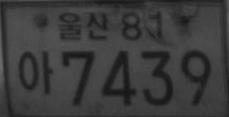1: (146, 10, 168, 39)
3: (140, 49, 174, 106)
4: (99, 49, 137, 106)
7: (60, 49, 96, 105)
8: (120, 11, 142, 41)
9: (180, 48, 212, 106)
아: (17, 49, 53, 95)
울산_H: (57, 11, 110, 41)
